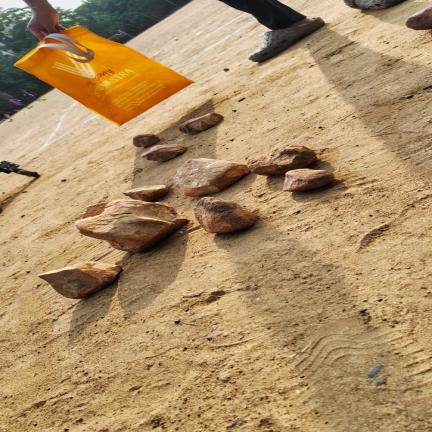Rocks: (76, 200, 187, 252), (39, 262, 122, 298), (174, 159, 249, 196), (194, 197, 255, 233), (248, 145, 316, 175), (284, 169, 334, 191), (179, 113, 223, 134), (122, 185, 168, 201), (141, 145, 187, 161), (406, 6, 431, 29), (133, 134, 160, 148), (367, 364, 383, 379), (374, 379, 386, 385), (399, 95, 413, 99)
